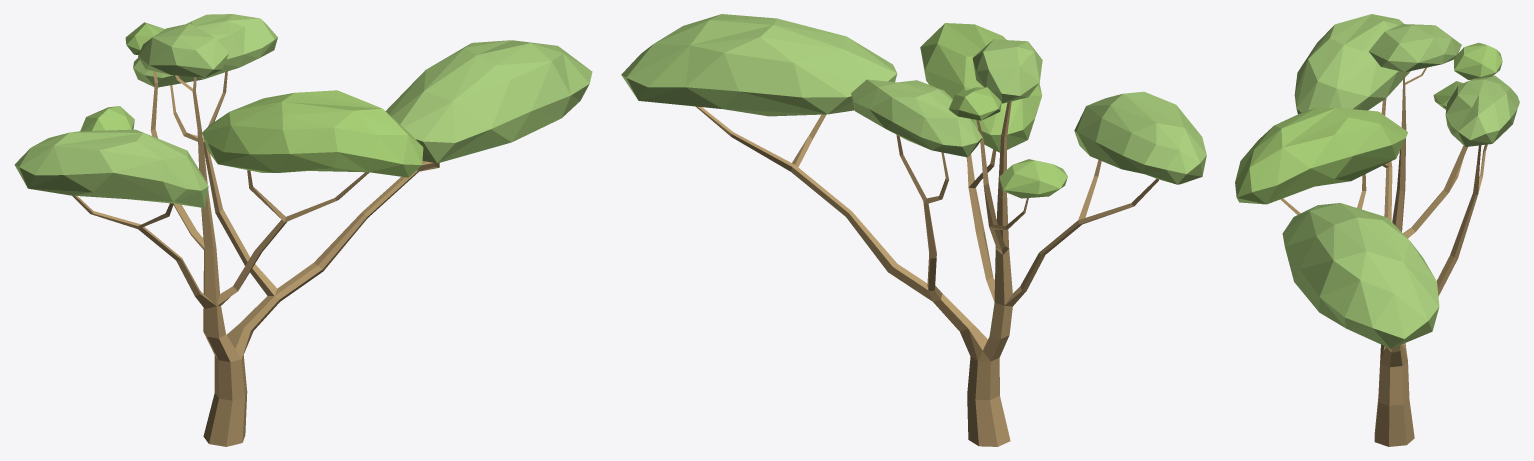
Rendered from Acacia_Tree_l_01.fbx.
The picture shows the model from 3 angles, left to right: view 1: azimuth 30°, elevation 25°; view 2: azimuth 150°, elevation 25°; view 3: azimuth 270°, elevation 25°; orthographic projection. The views are drawn at different scales.
Visible parts, largest first — view 1: Acacia_Tree_l_01; view 2: Acacia_Tree_l_01; view 3: Acacia_Tree_l_01.
Part boxes in pixels (x1,y1,x2,y2): Acacia_Tree_l_01: [14, 14, 592, 446]; Acacia_Tree_l_01: [621, 14, 1206, 446]; Acacia_Tree_l_01: [1235, 14, 1519, 446].
Size of the model in its own units: 1722 by 1171 by 765.
